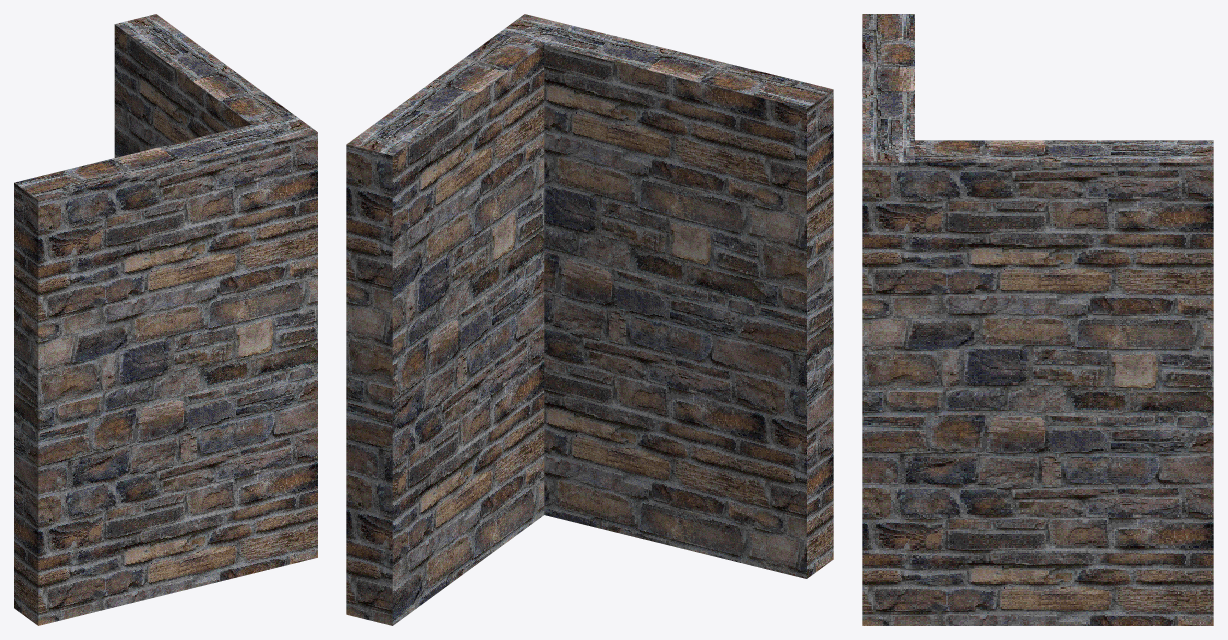
The model's file is cellar-wall-corner.glb.
3 views of the same model, side by side, from view 1: azimuth 30°, elevation 25°; view 2: azimuth 150°, elevation 25°; view 3: azimuth 270°, elevation 25° (orthographic). The views are drawn at different scales.
Parts seen in each view (by area): view 1: cellar-wall-corner.001; view 2: cellar-wall-corner.001; view 3: cellar-wall-corner.001.
Part boxes in pixels (box(x1,y1,x2,y2)): cellar-wall-corner.001: box(14, 14, 317, 625); cellar-wall-corner.001: box(346, 14, 833, 625); cellar-wall-corner.001: box(862, 14, 1213, 625).
Size of the model in its own units: 2 by 2.91 by 2.
Materials: 1 (1 with a texture image).
